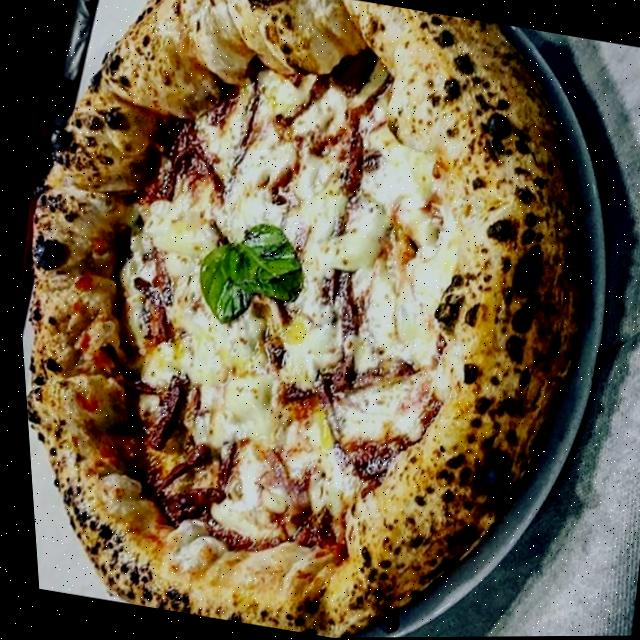basil: (214, 215, 308, 304), (184, 239, 260, 331)
pizza: (0, 0, 640, 640)
